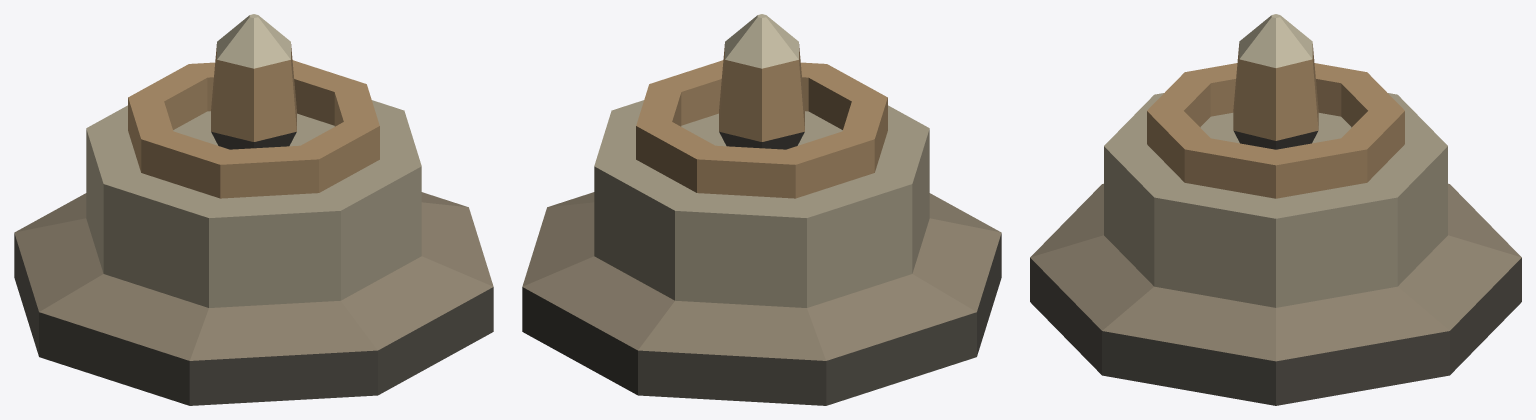
The model's file is seal-plinth.glb.
The picture shows the model from 3 angles, left to right: view 1: azimuth 30°, elevation 25°; view 2: azimuth 150°, elevation 25°; view 3: azimuth 270°, elevation 25°; orthographic projection.
Visible parts, largest first — view 1: seal-plinth__body; view 2: seal-plinth__body; view 3: seal-plinth__body.
Boxes of the visible parts, bbox=[...] form: seal-plinth__body: bbox=[14, 14, 493, 405]; seal-plinth__body: bbox=[522, 14, 1001, 405]; seal-plinth__body: bbox=[1030, 14, 1521, 405].
Bounding box in the file's own units: 1.2 × 0.77 × 1.2.
